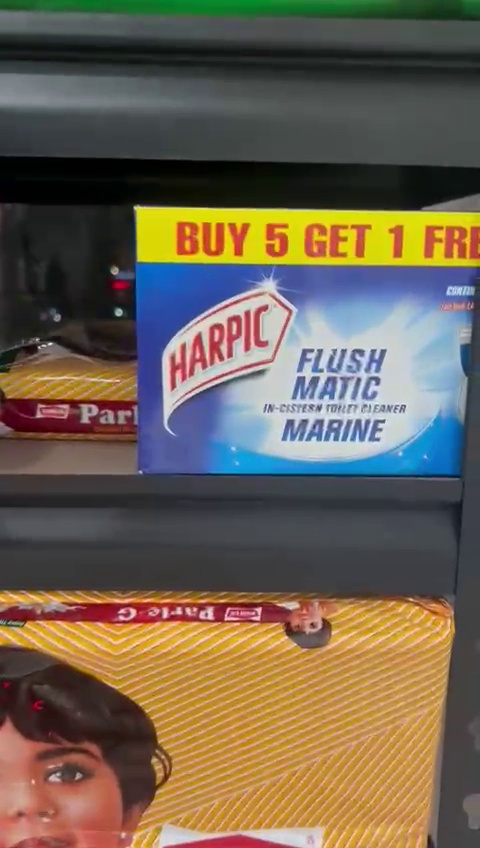Harpic: (136, 205, 480, 479)
